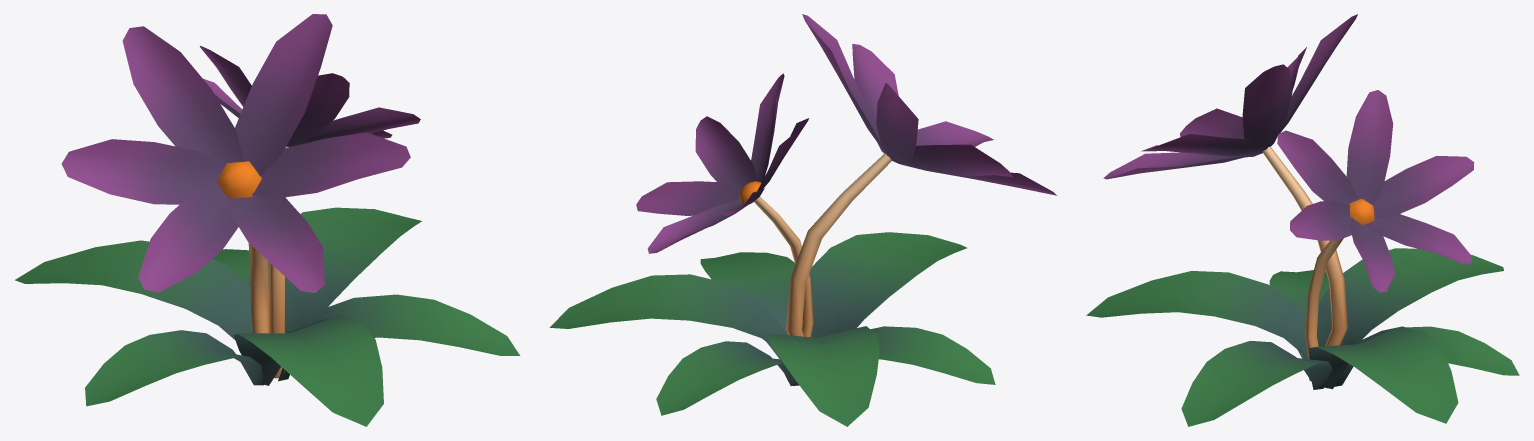
Rendered from flower_009_base_material_0.fbx.
3 views of the same model, side by side, from view 1: azimuth 30°, elevation 25°; view 2: azimuth 150°, elevation 25°; view 3: azimuth 270°, elevation 25° (orthographic). The views are drawn at different scales.
Parts seen in each view (by area): view 1: flower_009_base_material_0; view 2: flower_009_base_material_0; view 3: flower_009_base_material_0.
Part boxes in pixels (bbox=[...]): flower_009_base_material_0: bbox=[15, 14, 519, 426]; flower_009_base_material_0: bbox=[549, 14, 1057, 426]; flower_009_base_material_0: bbox=[1086, 14, 1519, 426].
Size of the model in its own units: 2.15 by 2.15 by 1.81.
1 material, 1 textured.
